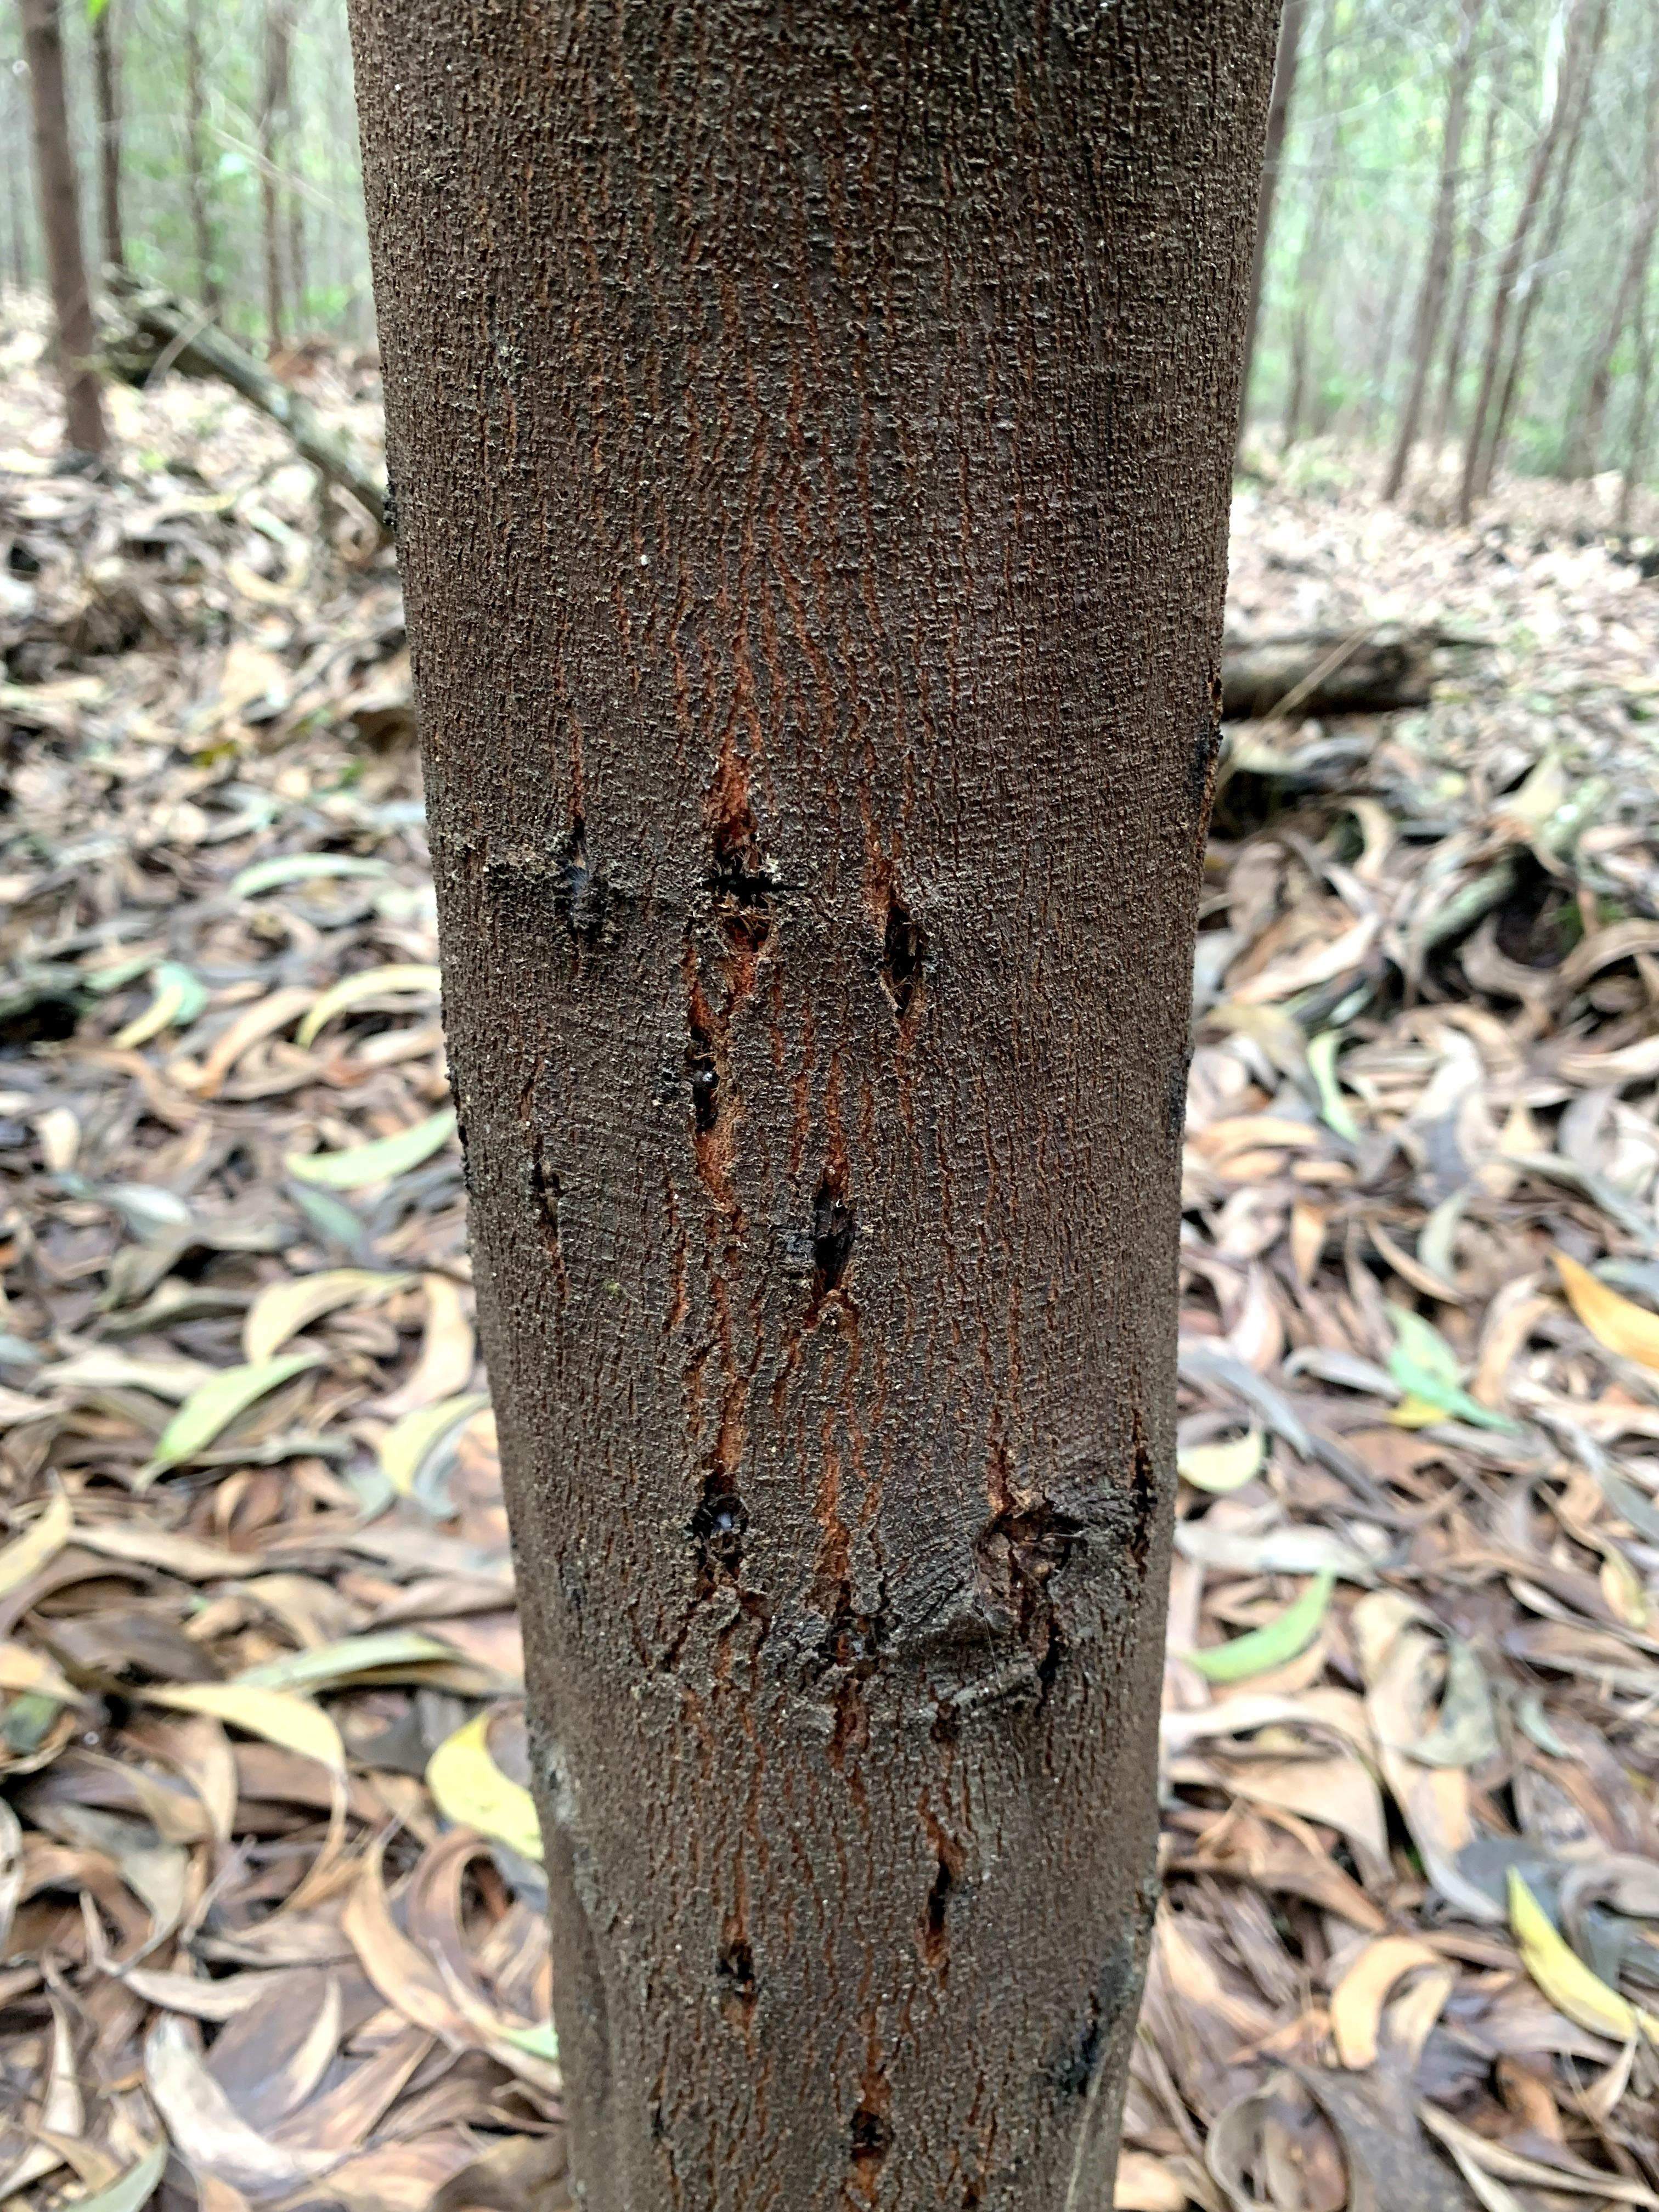Stem Borer: (969, 1474, 1089, 1723), (528, 815, 641, 1015), (685, 798, 812, 958), (666, 1446, 758, 1655), (798, 1571, 885, 1777), (671, 989, 755, 1186), (856, 869, 946, 1029), (899, 1822, 979, 1993), (793, 1172, 878, 1313), (511, 1113, 573, 1305), (1112, 1407, 1175, 1590), (835, 2073, 915, 2212), (1058, 1982, 1124, 2113), (706, 1916, 767, 2036)
